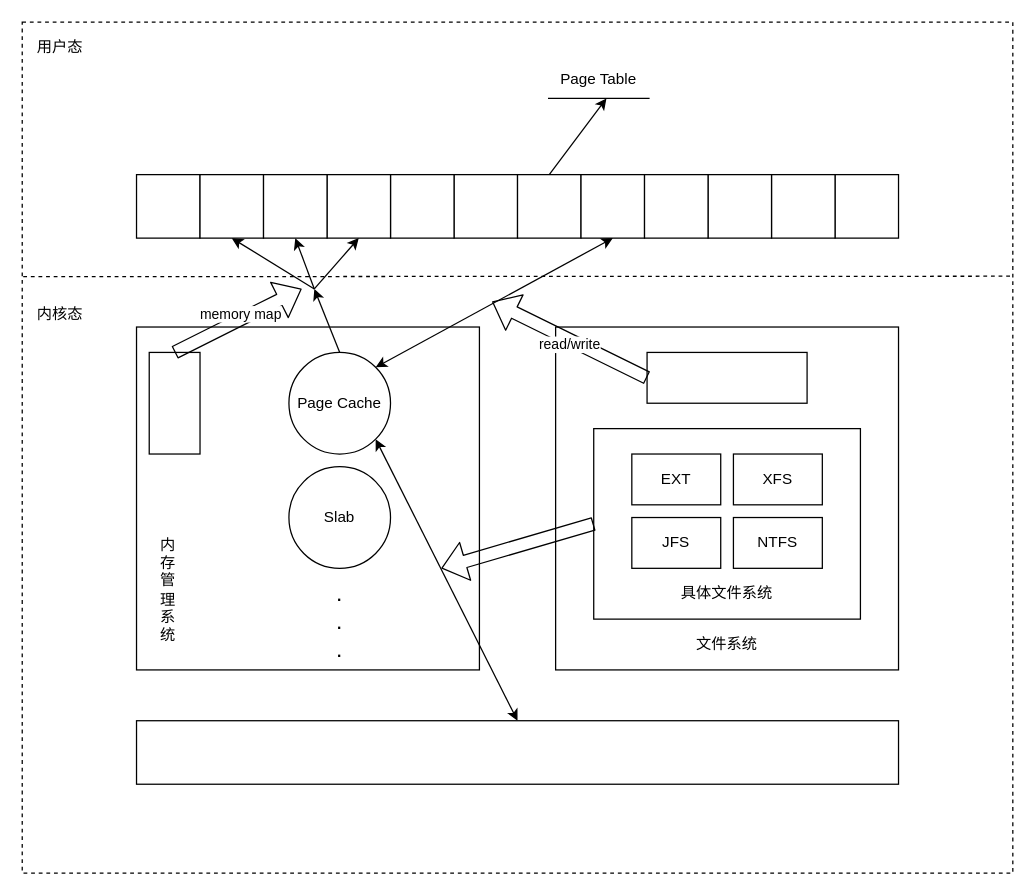
The diagram is 1036 pixels wide and 895 high, and some of its shapes have lost their labels. Each missing label, with the box of its shape:
Disk: (135, 719, 899, 784)
V M M: (148, 351, 200, 454)
VFS: (646, 351, 807, 403)
